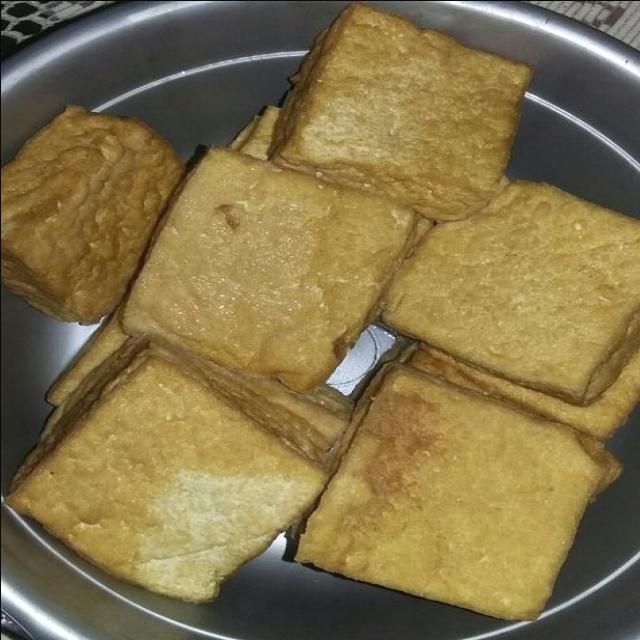tahu goreng: (293, 366, 620, 620), (7, 358, 339, 603), (122, 149, 415, 392), (231, 2, 535, 223), (378, 182, 640, 415)
tempe goreng: (0, 105, 185, 326)
